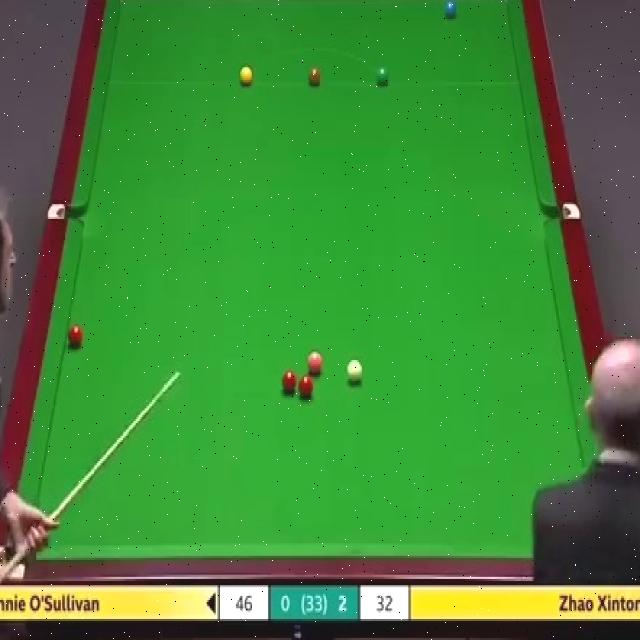blue-ball: (442, 0, 458, 19)
brown-ball: (308, 68, 322, 84)
green-ball: (375, 63, 390, 88)
pink-ball: (306, 350, 324, 374)
red-ball: (299, 373, 314, 402), (68, 323, 84, 348), (281, 369, 297, 392)
white-ball: (344, 355, 362, 383)
yellow-ball: (238, 64, 254, 86)
